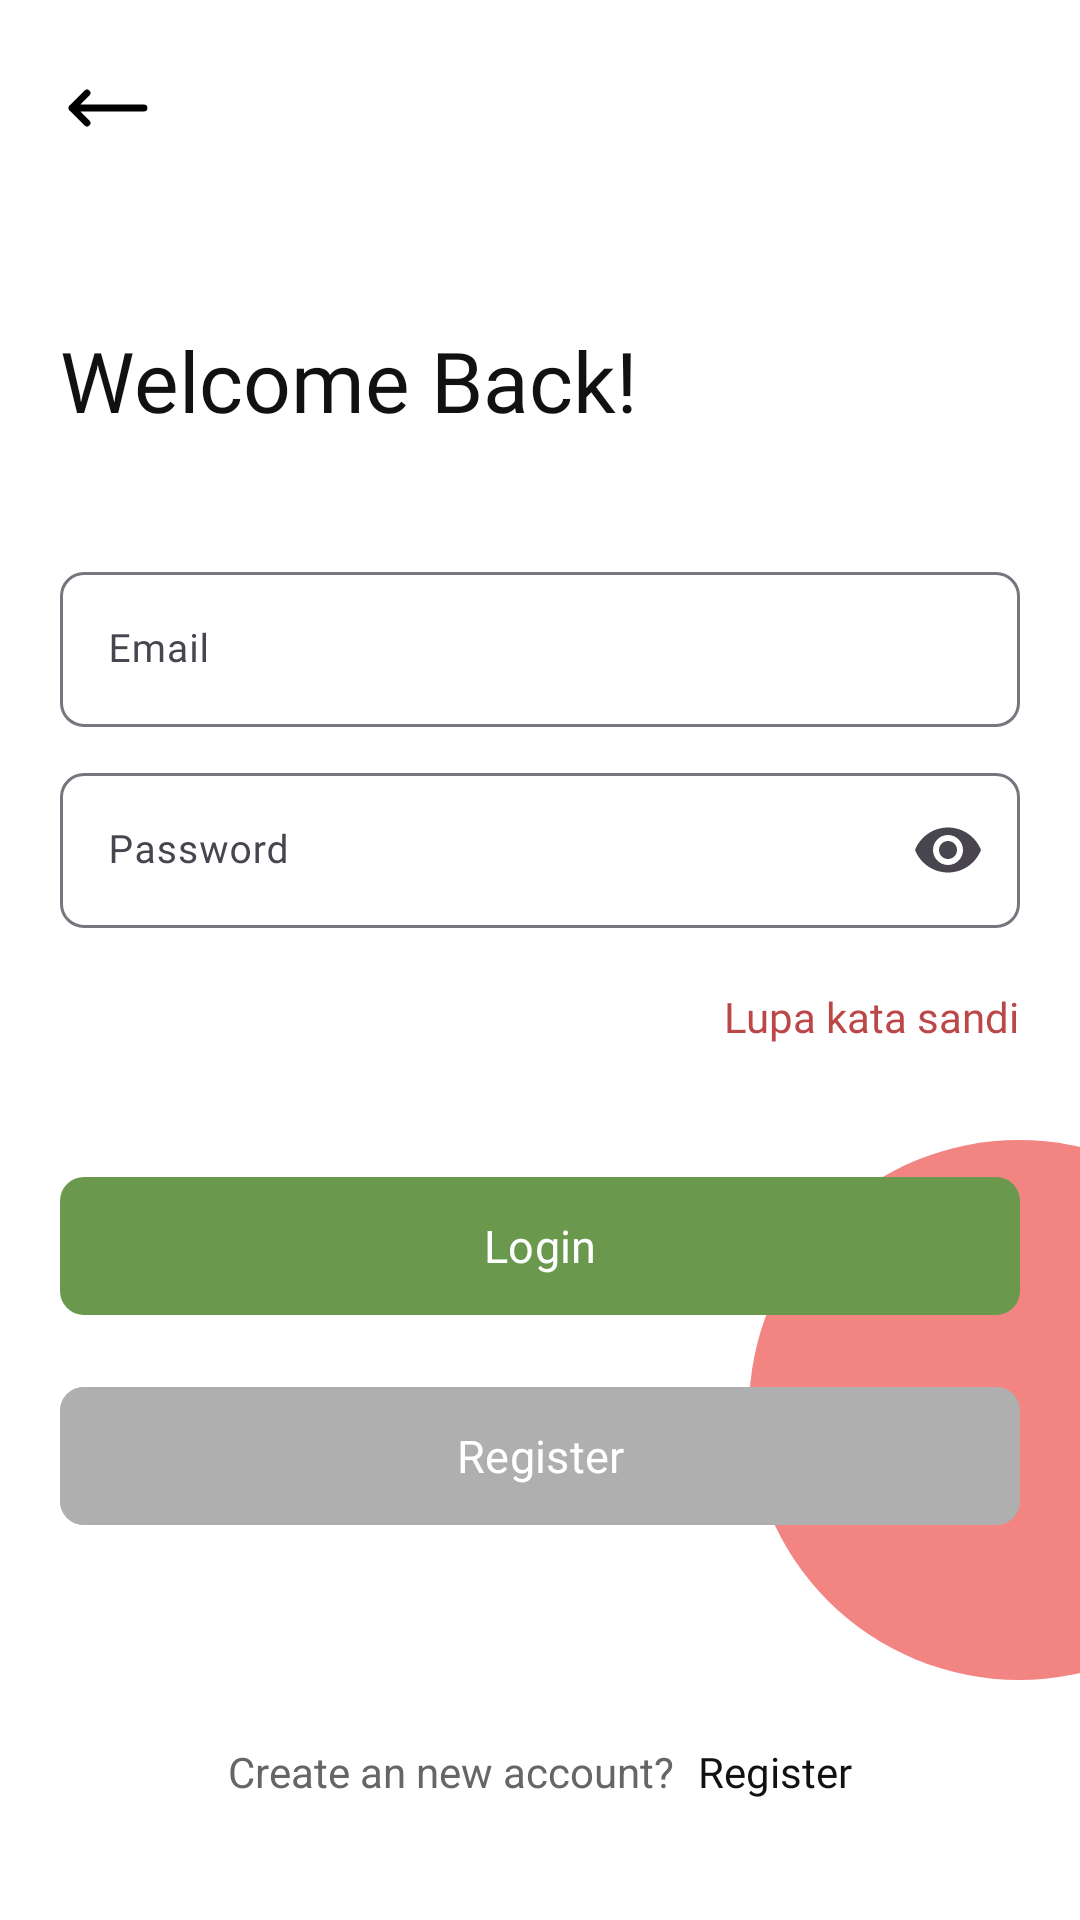

Icons on this 1080px×1920px Android screen, each with the point to tap as (x=x, y=y):
back: (x=108, y=108)
